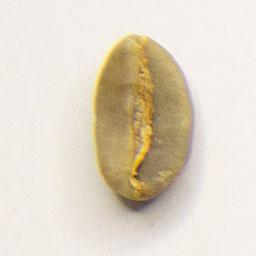longberry: (90, 31, 197, 204)
